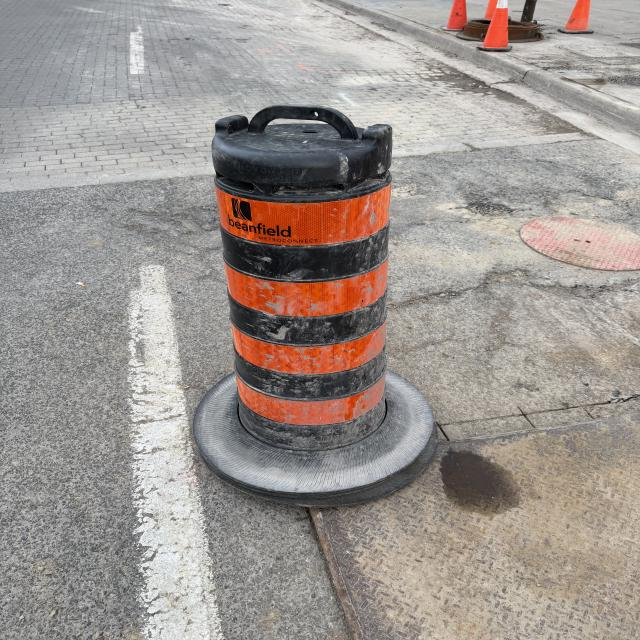Teraffic Barrel: (194, 105, 436, 506)
